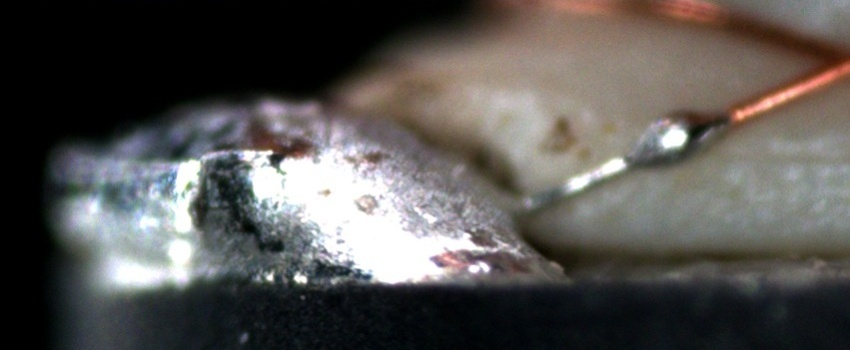CL: (800, 26, 848, 91)
DL: (720, 136, 849, 180)
TB: (619, 102, 733, 177)
TS: (526, 111, 732, 214)
TTCW: (511, 83, 782, 219)
